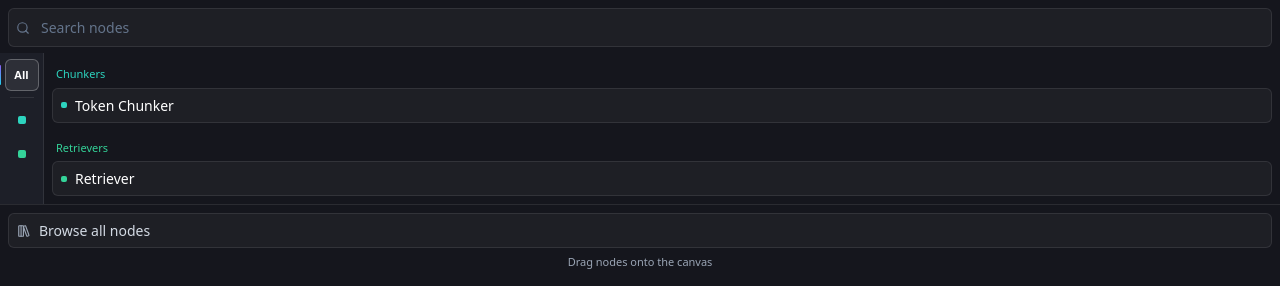
Test: PipelineNodeLibrary › searches across every category even while one is filtered
Click the button named "Chunkers (1)" at (22, 120), box [4,104,38,136]
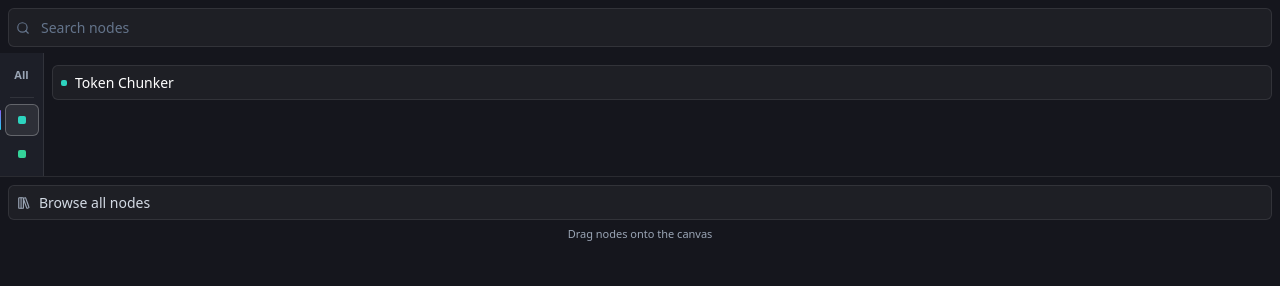
Type "retriever" into the search field labelled "Search nodes" at (640, 28), box [8,8,1272,47]
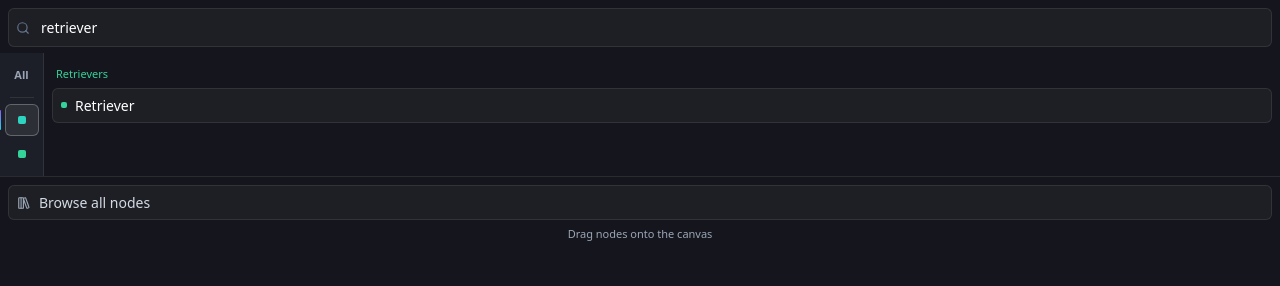
Expected: the button "Retriever" is shown, [52,88,1272,122]
Expected: the button "Token Chunker" is gone
